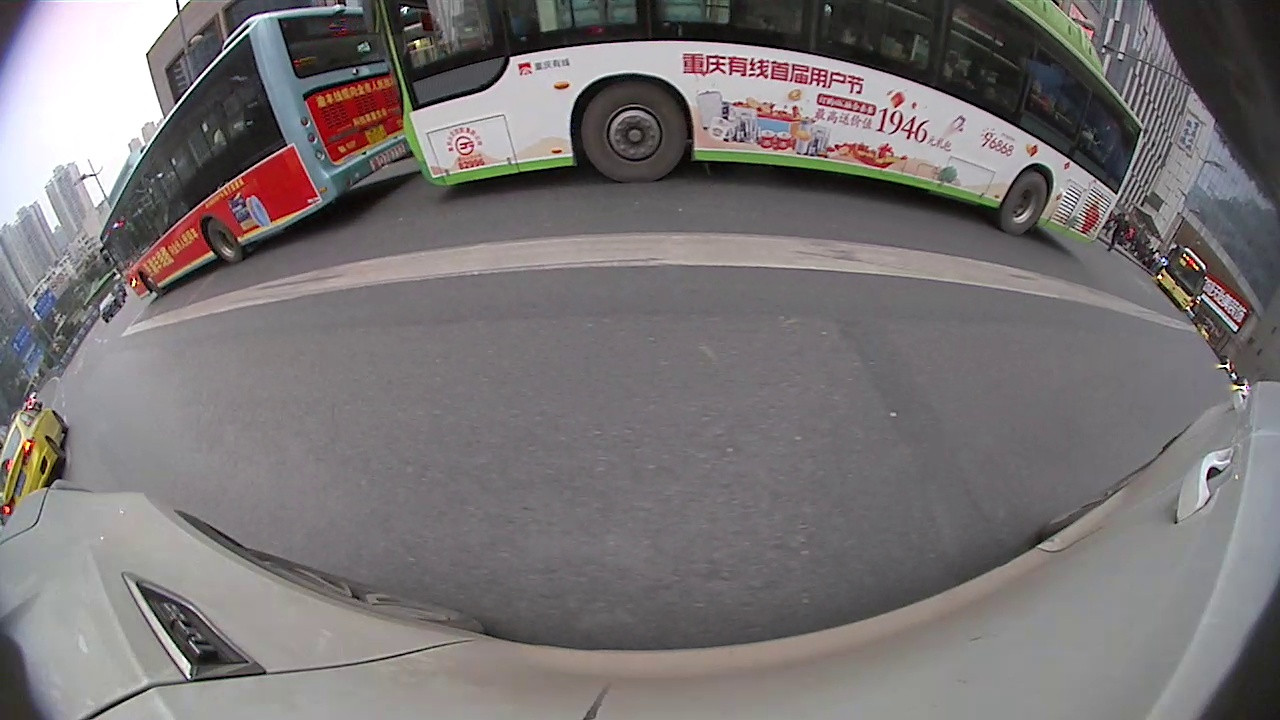bus: (368, 0, 1138, 247), (98, 6, 412, 298), (1155, 245, 1209, 313)
car: (0, 407, 70, 528), (95, 298, 121, 321)
front: (581, 84, 690, 186)
person: (1112, 208, 1124, 251)
rear: (1002, 168, 1050, 239), (199, 217, 247, 262)
